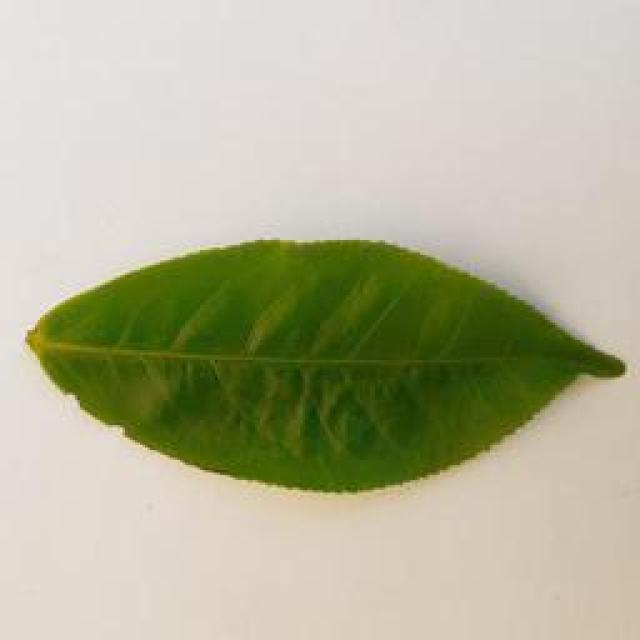Healthy: (11, 218, 640, 515)
